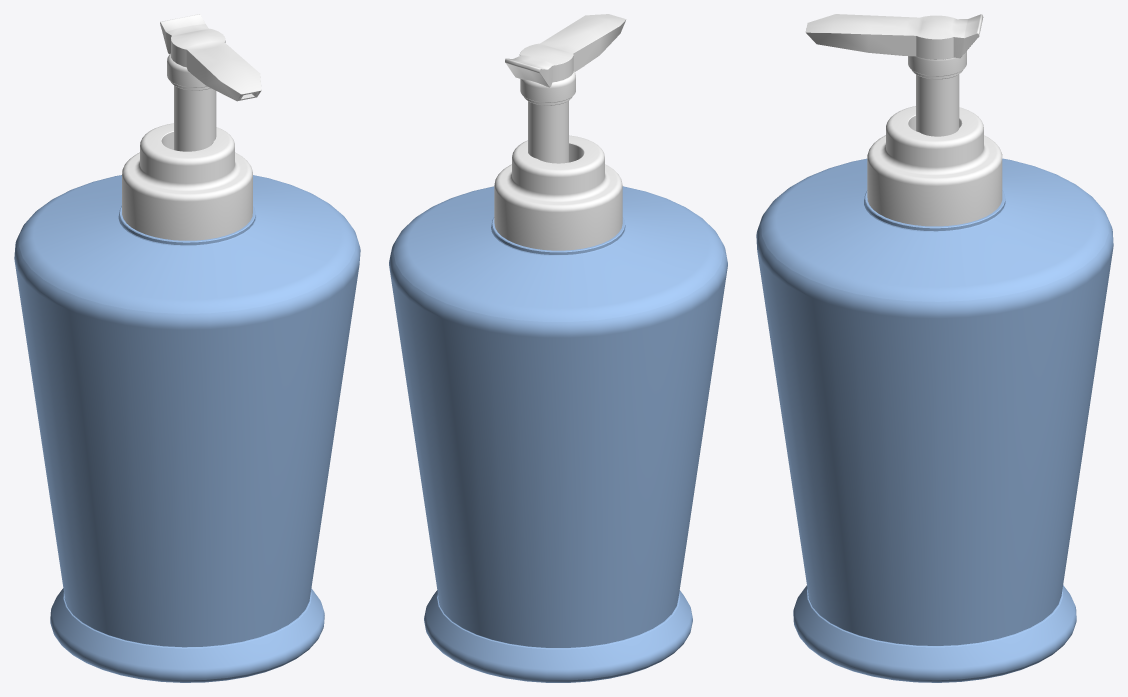
Rendered from Hand wash.FBX.
The picture shows the model from 3 angles, left to right: view 1: azimuth 30°, elevation 25°; view 2: azimuth 150°, elevation 25°; view 3: azimuth 270°, elevation 25°; orthographic projection. The views are drawn at different scales.
Visible parts, largest first — view 1: Obj3d66-448593-2-619, Object001, Group001, Group002; view 2: Obj3d66-448593-2-619, Object001, Group001, Group002; view 3: Obj3d66-448593-2-619, Object001, Group001, Group002.
Boxes of the visible parts, <box> form: Obj3d66-448593-2-619: <box>14,175,360,682</box>; Object001: <box>122,123,252,240</box>; Group001: <box>160,14,261,101</box>; Group002: <box>174,85,216,151</box>; Obj3d66-448593-2-619: <box>389,186,727,682</box>; Object001: <box>494,135,622,250</box>; Group001: <box>505,14,626,105</box>; Group002: <box>528,101,568,163</box>; Obj3d66-448593-2-619: <box>756,158,1113,682</box>; Object001: <box>867,106,1002,226</box>; Group001: <box>805,14,983,79</box>; Group002: <box>916,74,959,136</box>.
Size of the model in its own units: 34036 by 64064 by 33985.
